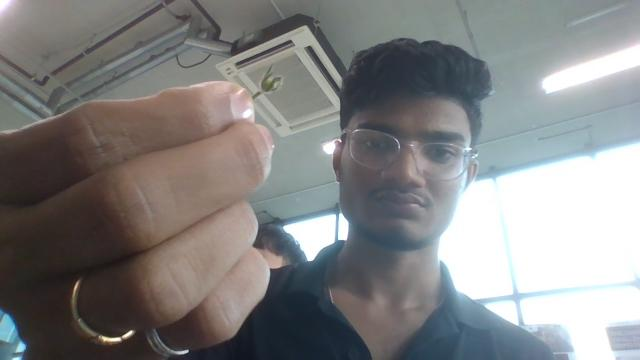Fruit Bud: (251, 63, 283, 101)
